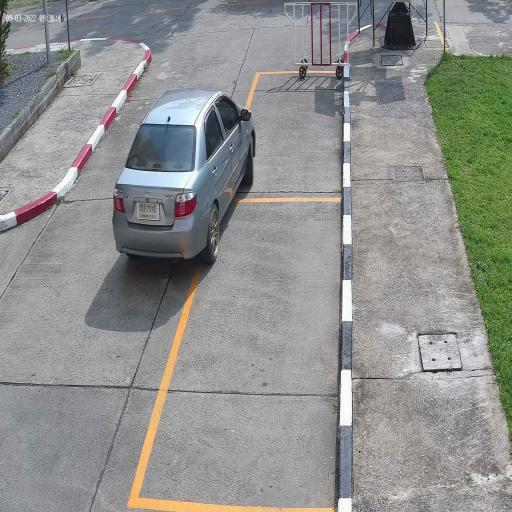car: (111, 87, 257, 268)
